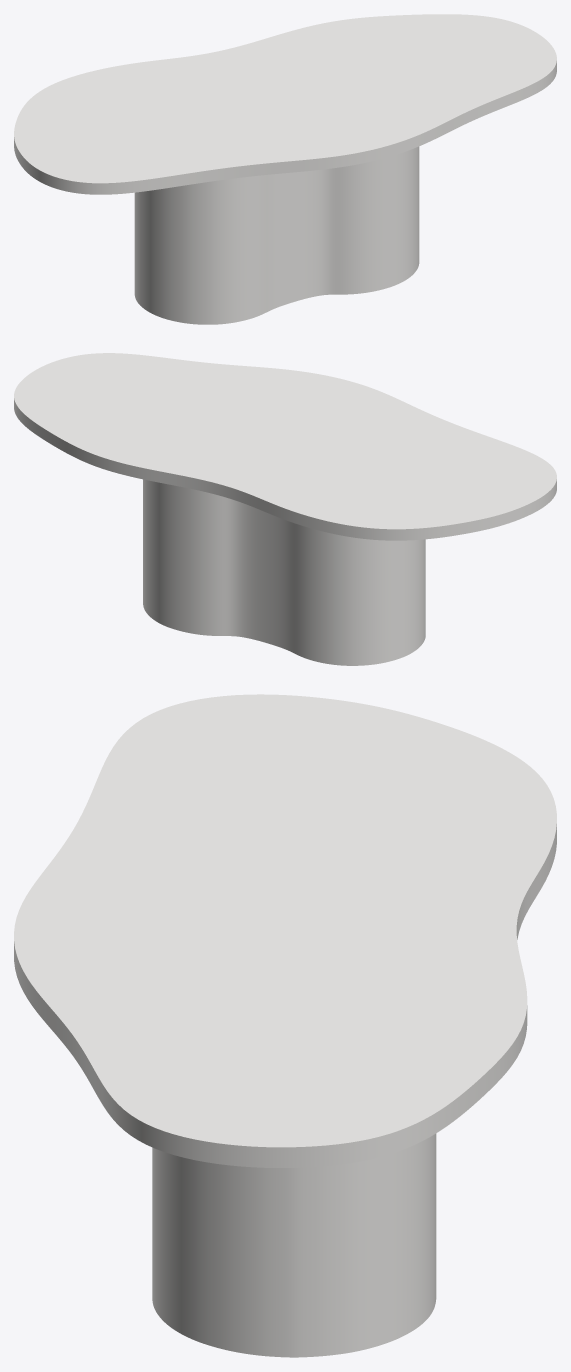
File: purewhite_toplast_standard_riverwave.glb
3 views of the same model, one above another, from view 1: azimuth 30°, elevation 25°; view 2: azimuth 150°, elevation 25°; view 3: azimuth 270°, elevation 25° (orthographic). The views are drawn at different scales.
Parts seen in each view (by area): view 1: standard_toplast, riverwave; view 2: standard_toplast, riverwave; view 3: standard_toplast, riverwave.
Boxes of the visible parts, x1=… form: standard_toplast: x1=14, y1=14, x2=556, y2=194; riverwave: x1=134, y1=146, x2=419, y2=324; standard_toplast: x1=14, y1=353, x2=556, y2=540; riverwave: x1=143, y1=479, x2=425, y2=665; standard_toplast: x1=14, y1=694, x2=556, y2=1167; riverwave: x1=152, y1=1133, x2=436, y2=1357.
Size of the model in its own units: 7.5 by 2.5 by 3.8.
1 material, 1 textured.
